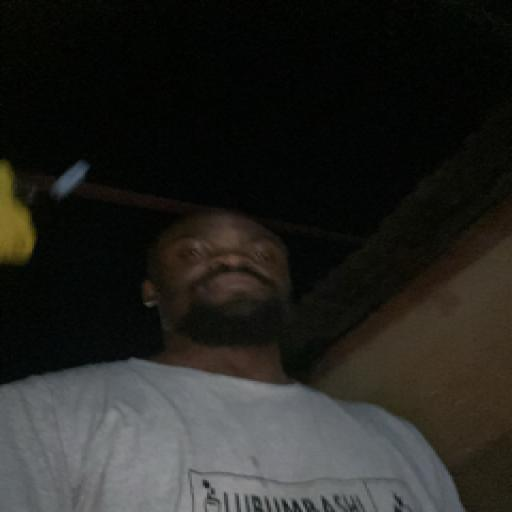JEANLUC: (126, 199, 303, 358)
